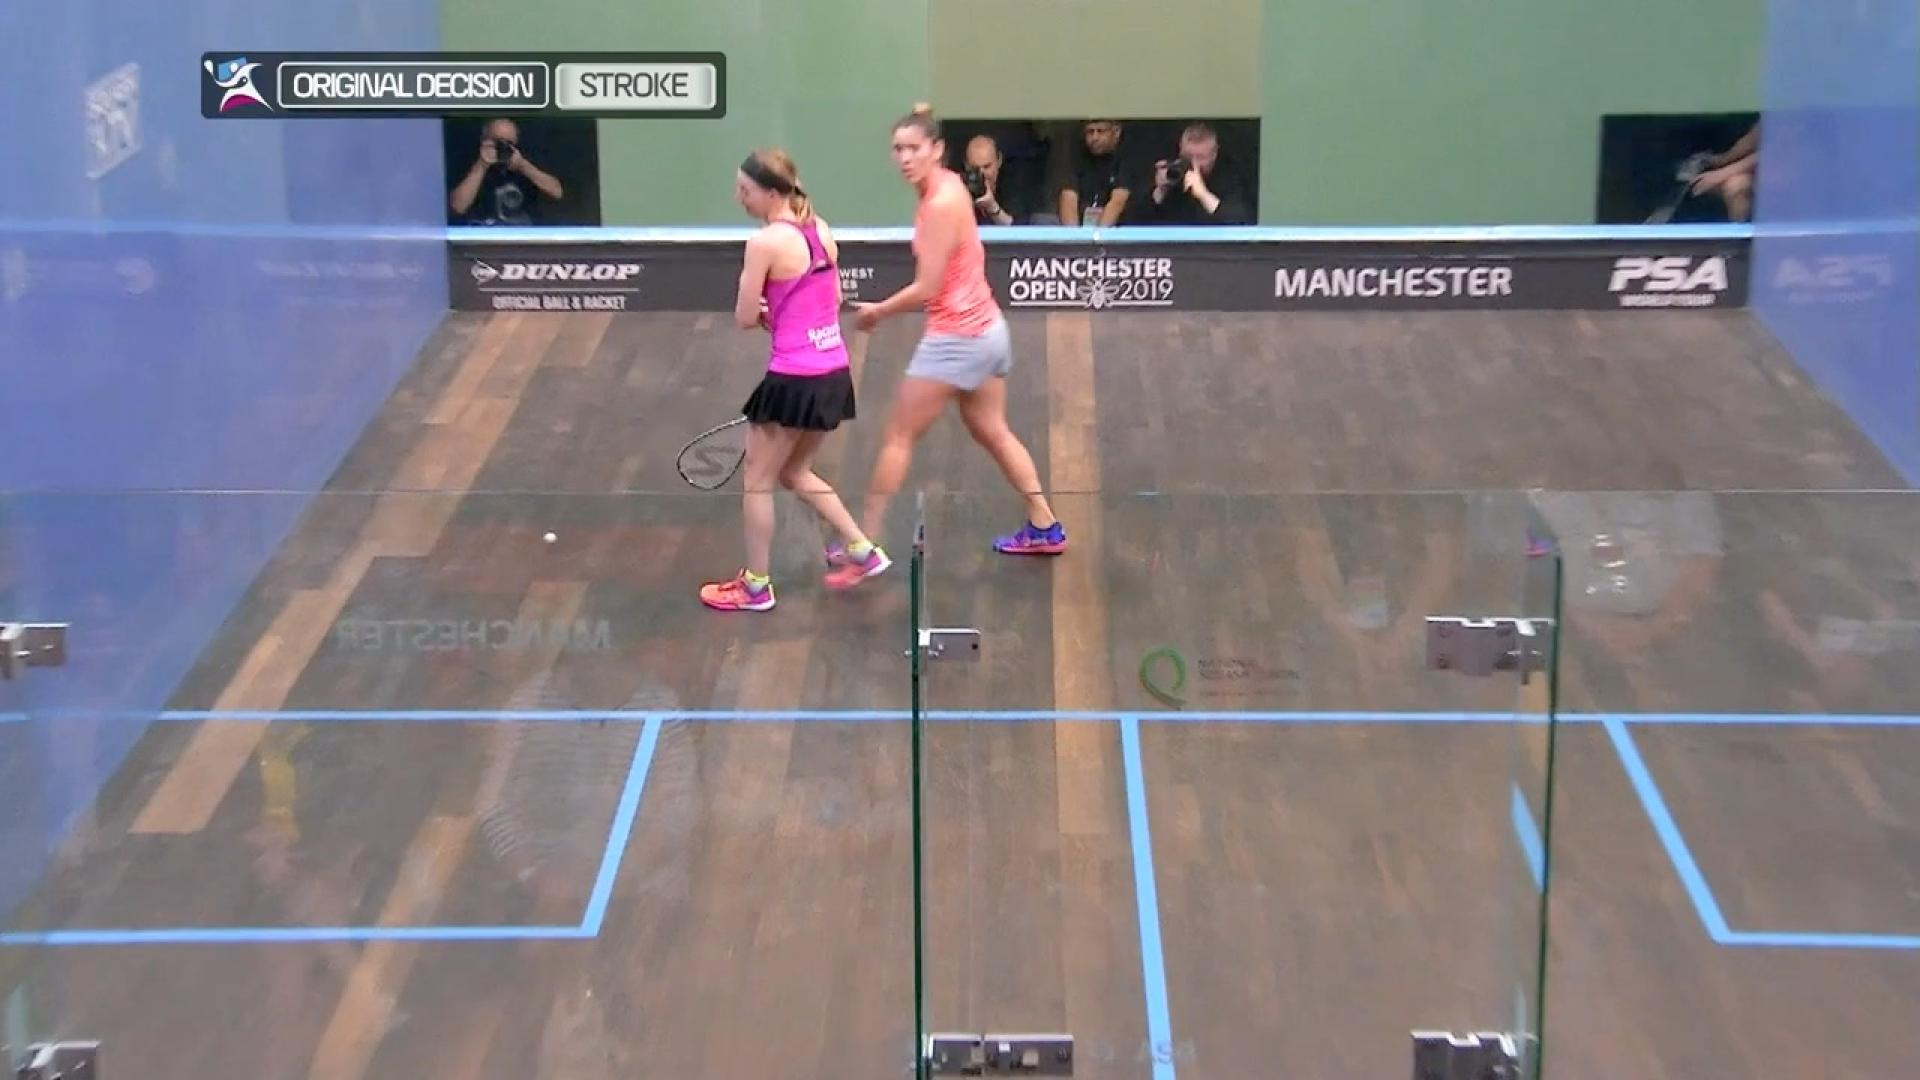Squash-Ball: (520, 502, 575, 572)
